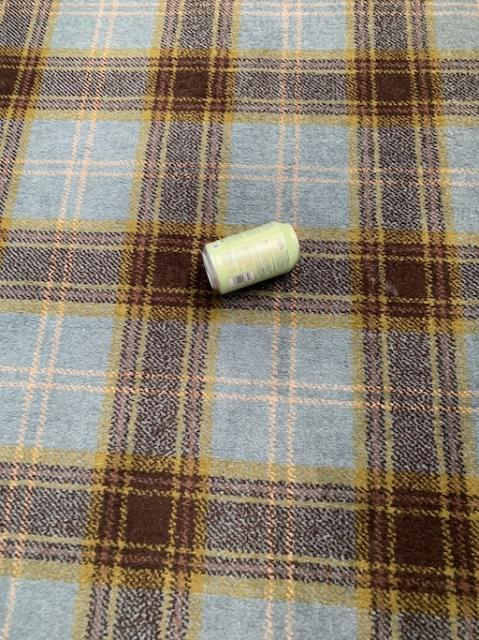metal: (201, 221, 298, 292)
